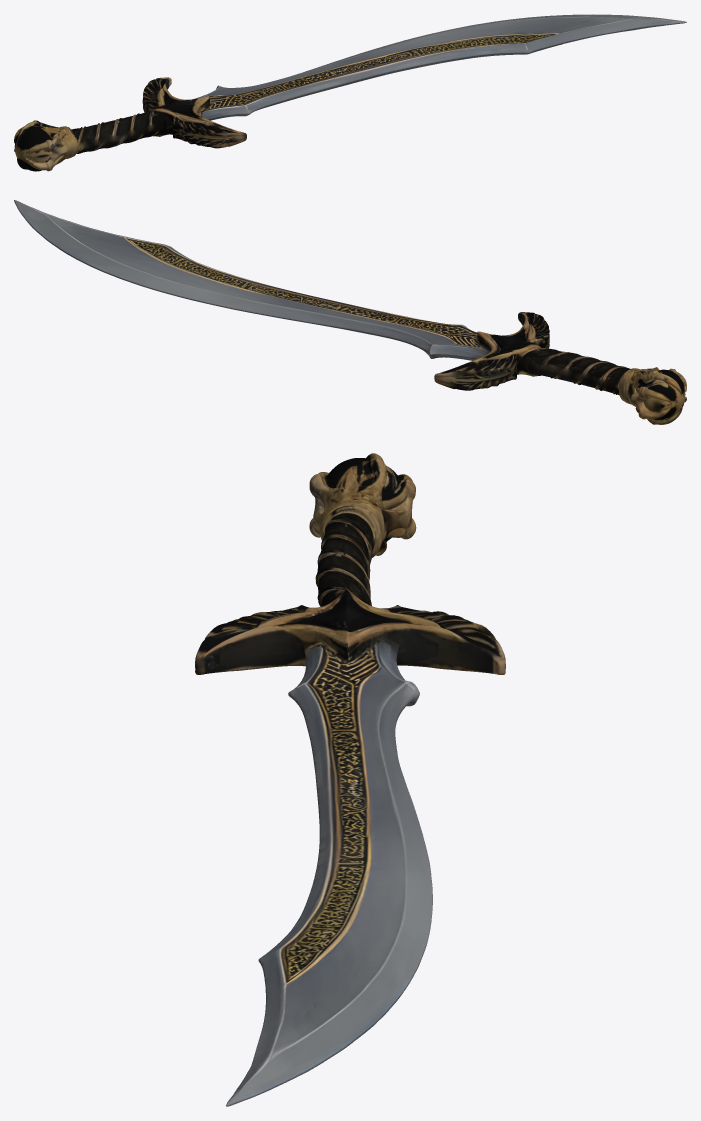
The picture shows the model from 3 angles, top to bottom: view 1: azimuth 30°, elevation 25°; view 2: azimuth 150°, elevation 25°; view 3: azimuth 270°, elevation 25°; orthographic projection. The views are drawn at different scales.
Parts seen in each view (by area): view 1: node_0; view 2: node_0; view 3: node_0.
Part boxes in pixels (x1,y1,x2,y2): node_0: (14, 14, 686, 171); node_0: (14, 200, 686, 424); node_0: (195, 453, 505, 1106).
Size of the model in its own units: 0.9437 by 0.0685 by 0.2.
1 material, 1 textured.
